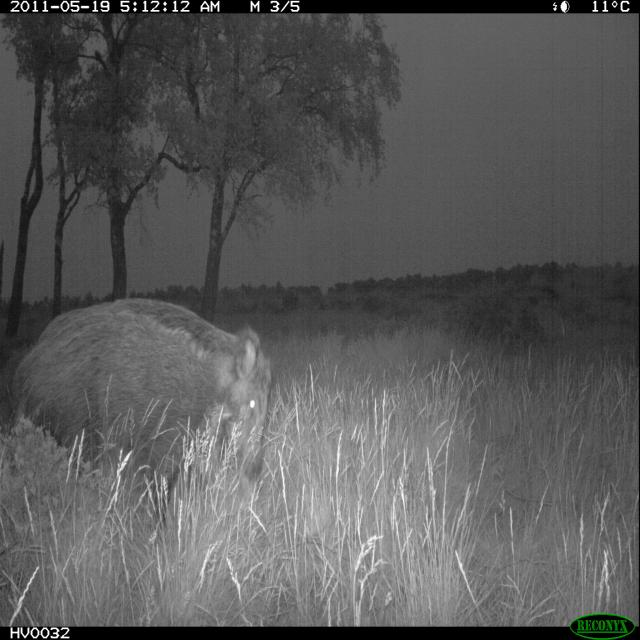boar: (1, 279, 286, 512)
